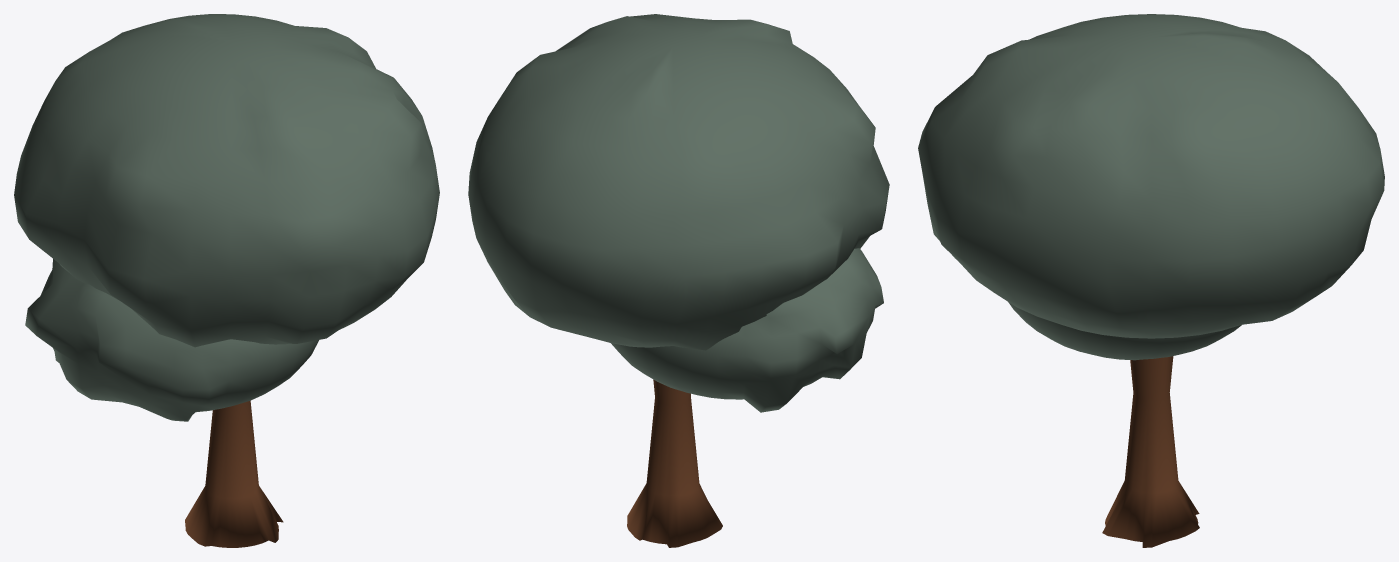
The model's file is tree_v4.fbx.
The picture shows the model from 3 angles, left to right: view 1: azimuth 30°, elevation 25°; view 2: azimuth 150°, elevation 25°; view 3: azimuth 270°, elevation 25°; orthographic projection.
Visible parts, largest first — view 1: tree_v4; view 2: tree_v4; view 3: tree_v4.
Boxes of the visible parts, x1=… form: tree_v4: x1=14, y1=14, x2=439, y2=547; tree_v4: x1=468, y1=14, x2=889, y2=547; tree_v4: x1=918, y1=14, x2=1384, y2=547.
Bounding box in the file's own units: 527 × 674 × 586.
